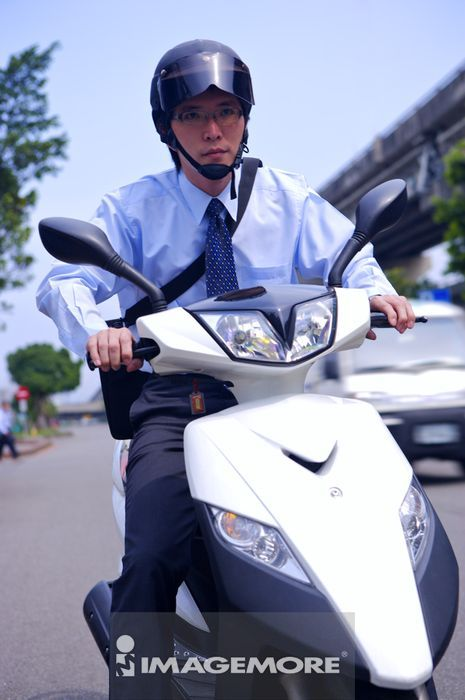helmet: (147, 39, 261, 127)
